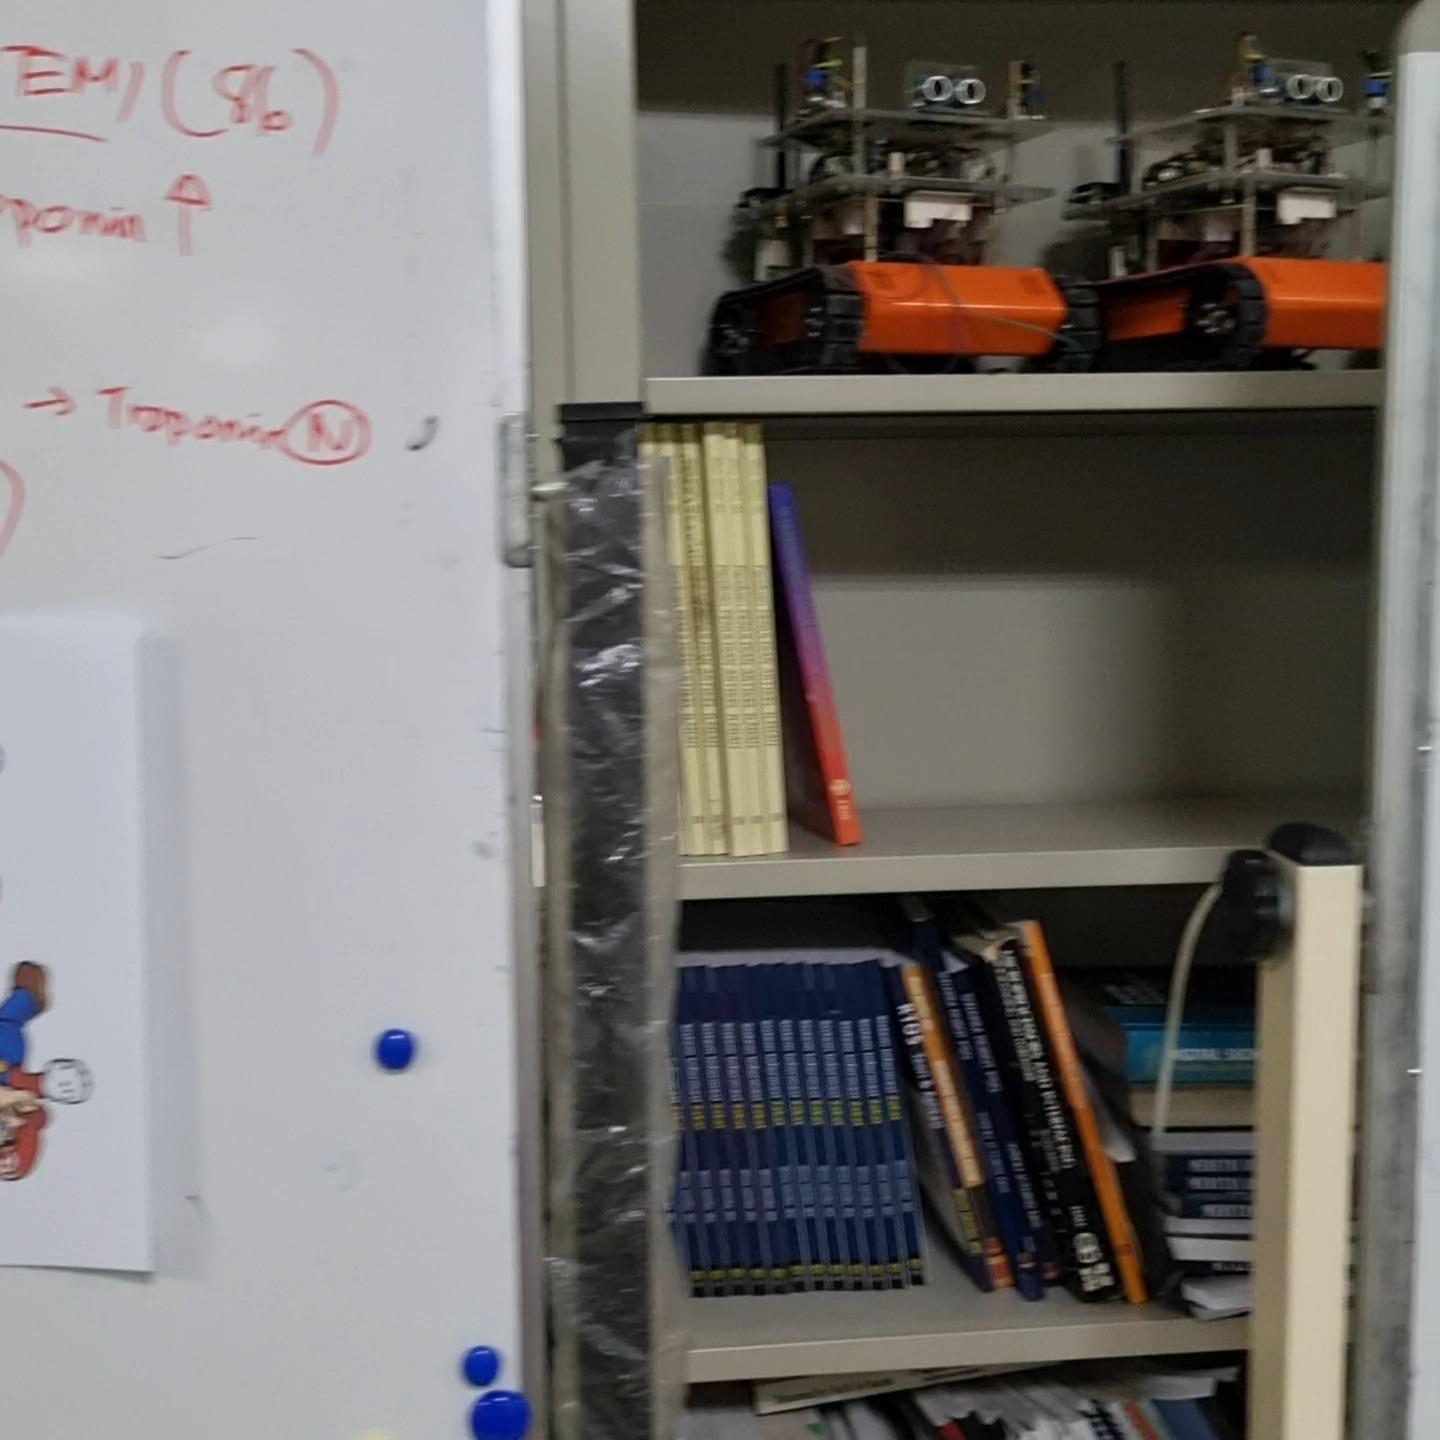mario: (0, 952, 102, 1192)
